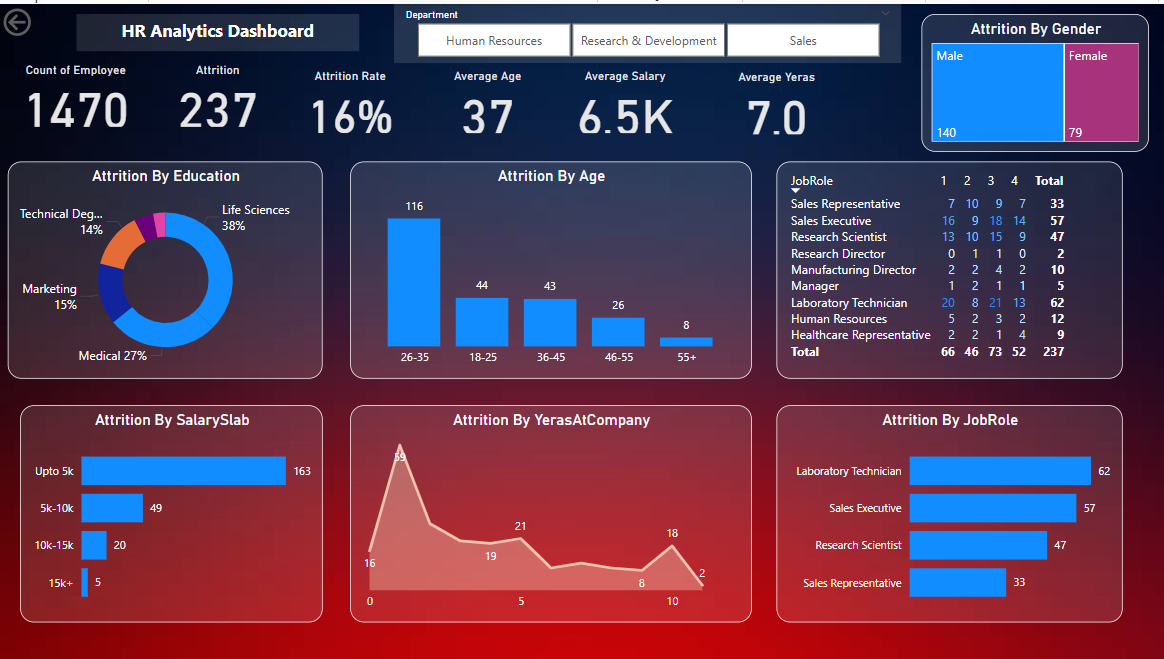

The page's visual inventory and layout, read from the dashboard file:
{"tool":"powerbi","page":{"name":"Page 1","canvas":[1280,720],"ordinal":0},"visuals":[{"type":"card","title":"Count of Employee","fields":{"Values":["Sum(HR_Analytics.EmployeeCount)"]},"box":[9.6,64.5,149.6,75.5],"z":0},{"type":"card","title":"Attrition","fields":{"Values":["Sum(HR_Analytics.AttritionCount)"]},"box":[164.7,64.5,150.9,75.5],"z":1000},{"type":"card","title":"Attrition Rate","fields":{"Values":["HR_Analytics.Attrition Rtae"]},"box":[310.1,71.4,150.9,75.5],"z":2000},{"type":"card","title":"Average Age","fields":{"Values":["Avg(HR_Analytics.Age)"]},"box":[461.1,71.4,150.9,75.5],"z":3000},{"type":"card","title":"Average Salary","fields":{"Values":["Avg(HR_Analytics.MonthlyIncome)"]},"box":[612,71.4,150.9,75.5],"z":4000},{"type":"card","title":"Average Yeras","fields":{"Values":["Avg(HR_Analytics.YearsAtCompany)"]},"box":[778,72.7,150.9,75.5],"z":5000},{"type":"actionButton","box":[0,0,100,40],"z":6000},{"type":"donutChart","title":"Attrition By Education","fields":{"Category":["HR_Analytics.EducationField"],"Y":["Sum(HR_Analytics.AttritionCount)"]},"box":[9.6,172.9,345.8,238.8],"z":7000},{"type":"columnChart","title":"Attrition By Age","fields":{"Category":["HR_Analytics.AgeGroup"],"Y":["Sum(HR_Analytics.AttritionCount)"]},"box":[385.6,172.9,440.5,238.8],"z":8000},{"type":"pivotTable","fields":{"Rows":["HR_Analytics.JobRole"],"Columns":["HR_Analytics.JobSatisfaction"],"Values":["Sum(HR_Analytics.AttritionCount)"]},"box":[853.5,172.9,380.1,238.8],"z":9000},{"type":"clusteredBarChart","title":"Attrition By SalarySlab","fields":{"Category":["HR_Analytics.SalarySlab"],"Y":["Sum(HR_Analytics.AttritionCount)"]},"box":[23.3,440.5,332.1,238.8],"z":10000},{"type":"clusteredBarChart","title":"Attrition By JobRole","fields":{"Category":["HR_Analytics.JobRole"],"Y":["Sum(HR_Analytics.AttritionCount)"]},"box":[853.5,440.5,380.1,238.8],"z":11000},{"type":"areaChart","title":"Attrition By YerasAtCompany","fields":{"Category":["HR_Analytics.YearsAtCompany"],"Y":["Sum(HR_Analytics.AttritionCount)"]},"box":[385.6,440.5,440.5,238.8],"z":12000},{"type":"treemap","title":"Attrition By Gender","fields":{"Group":["HR_Analytics.Gender"],"Values":["Sum(HR_Analytics.AttritionCount)"]},"box":[1012.7,11,249.7,150.9],"z":12001},{"type":"slicer","fields":{"Values":["HR_Analytics.Department"]},"box":[433.6,0,557.1,64.5],"z":12002},{"type":"textbox","box":[85.1,11,310.1,41.2],"z":12003}]}

Visuals, with their boxes in screenshot pixels (x1, y1, x2, y2), scaled from the page's 1280x720 canvas onto the 1164x659 screenshot:
"Count of Employee" card: 9, 59, 145, 128
"Attrition" card: 150, 59, 287, 128
"Attrition Rate" card: 282, 65, 419, 134
"Average Age" card: 419, 65, 557, 134
"Average Salary" card: 557, 65, 694, 134
"Average Yeras" card: 707, 67, 845, 136
actionButton: 0, 0, 91, 37
"Attrition By Education" donutChart: 9, 158, 323, 377
"Attrition By Age" columnChart: 351, 158, 751, 377
pivotTable - HR_Analytics.JobRole x HR_Analytics.JobSatisfaction: 776, 158, 1122, 377
"Attrition By SalarySlab" clusteredBarChart: 21, 403, 323, 622
"Attrition By JobRole" clusteredBarChart: 776, 403, 1122, 622
"Attrition By YerasAtCompany" areaChart: 351, 403, 751, 622
"Attrition By Gender" treemap: 921, 10, 1148, 148
slicer - HR_Analytics.Department: 394, 0, 901, 59
textbox: 77, 10, 359, 48
